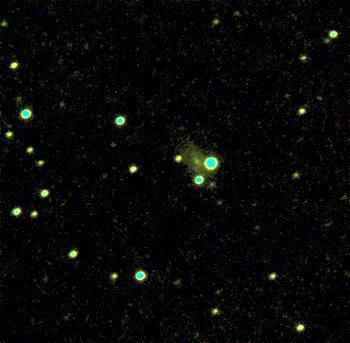star: (219, 1, 249, 31)
